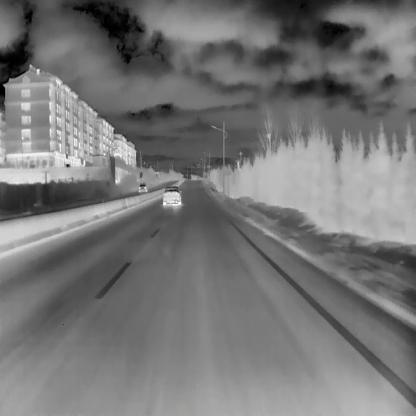car: (162, 184, 182, 205), (137, 181, 148, 192)
